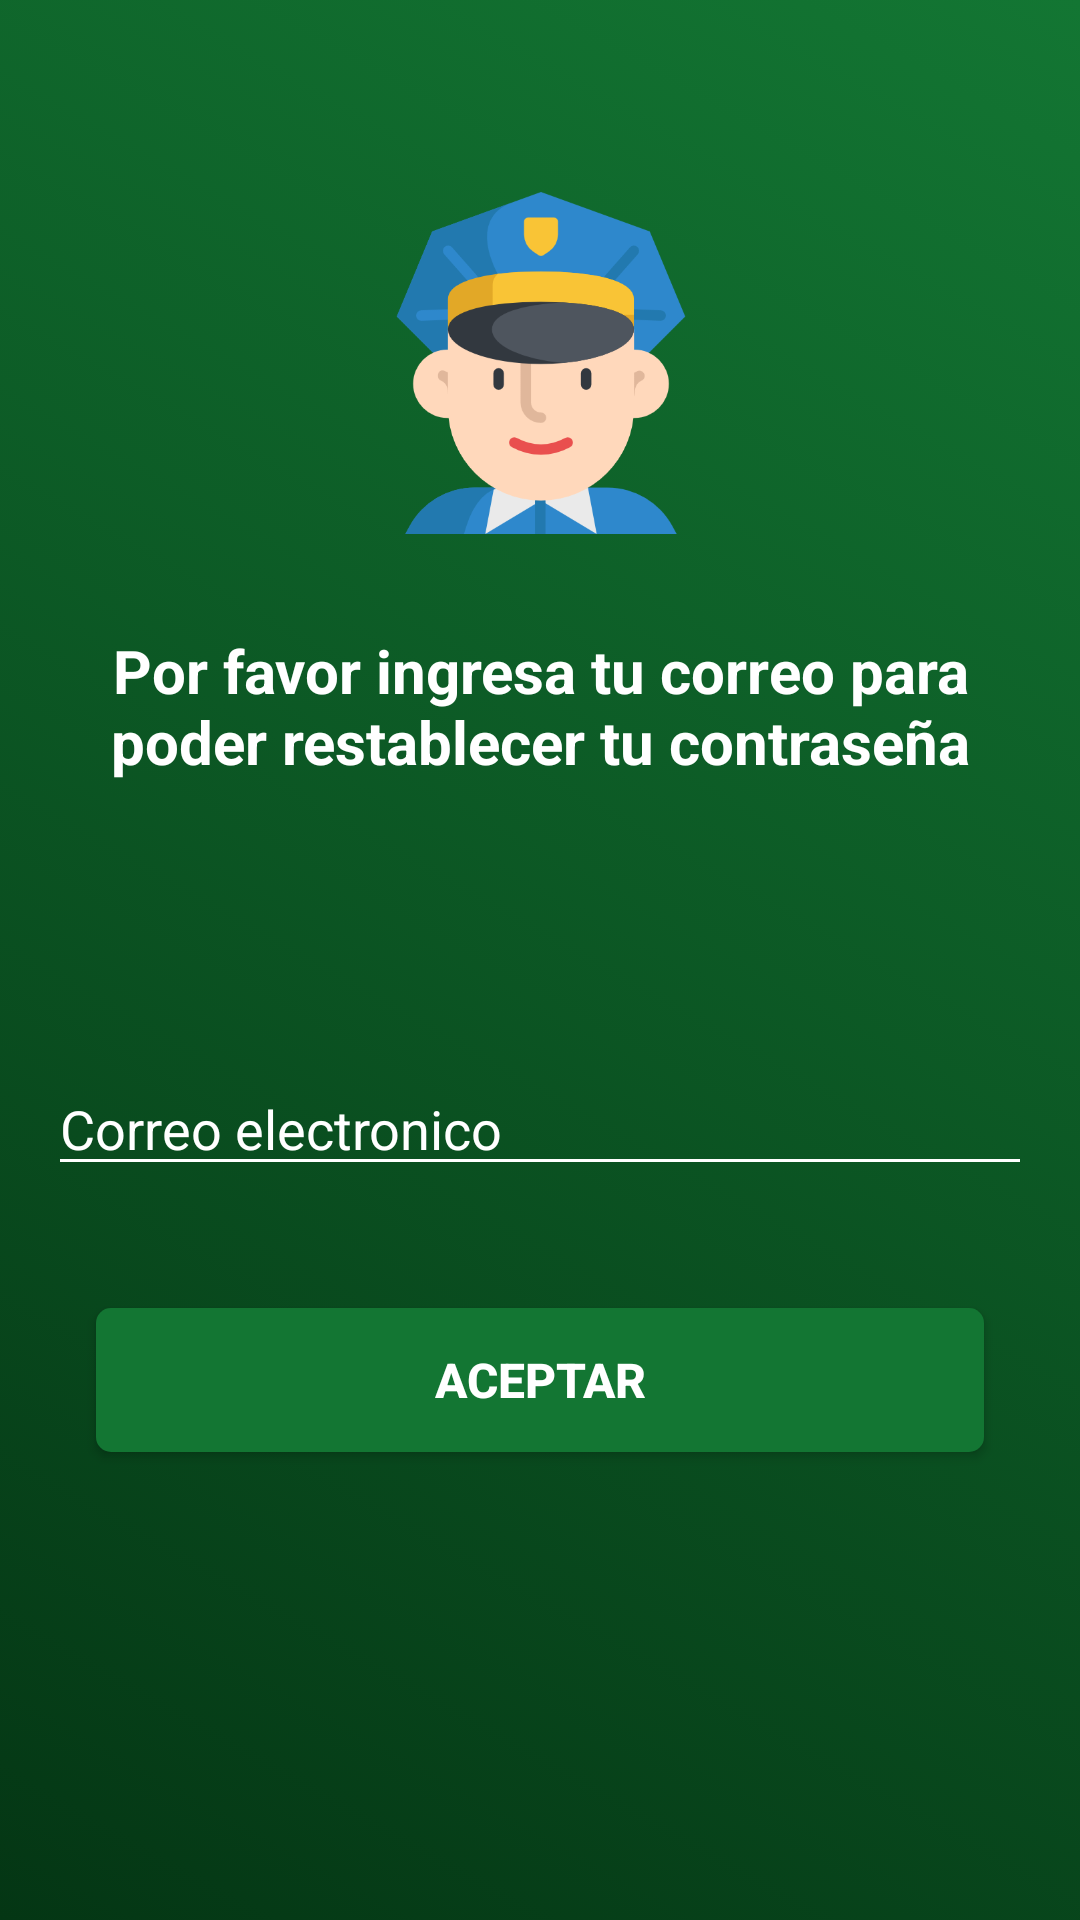

Point at icon controls on the screen. Image size 1080×1920, points as (x=x, y=y).
oficial: (x=541, y=363)
